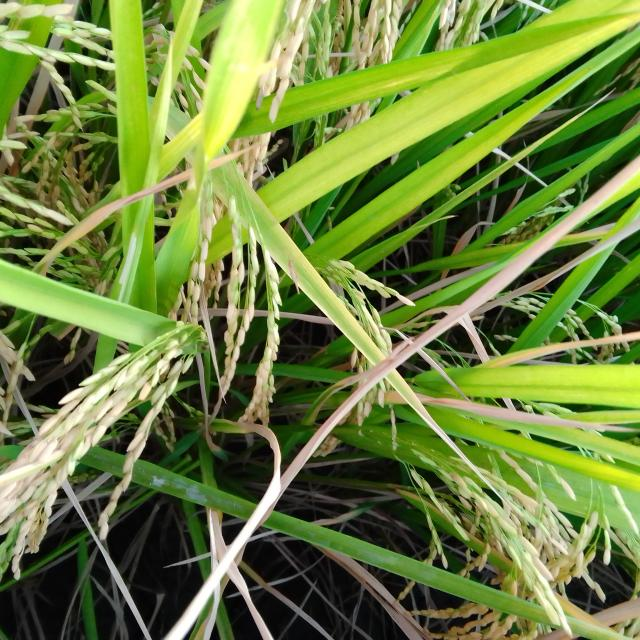green leaf hopper: (269, 246, 324, 308)
